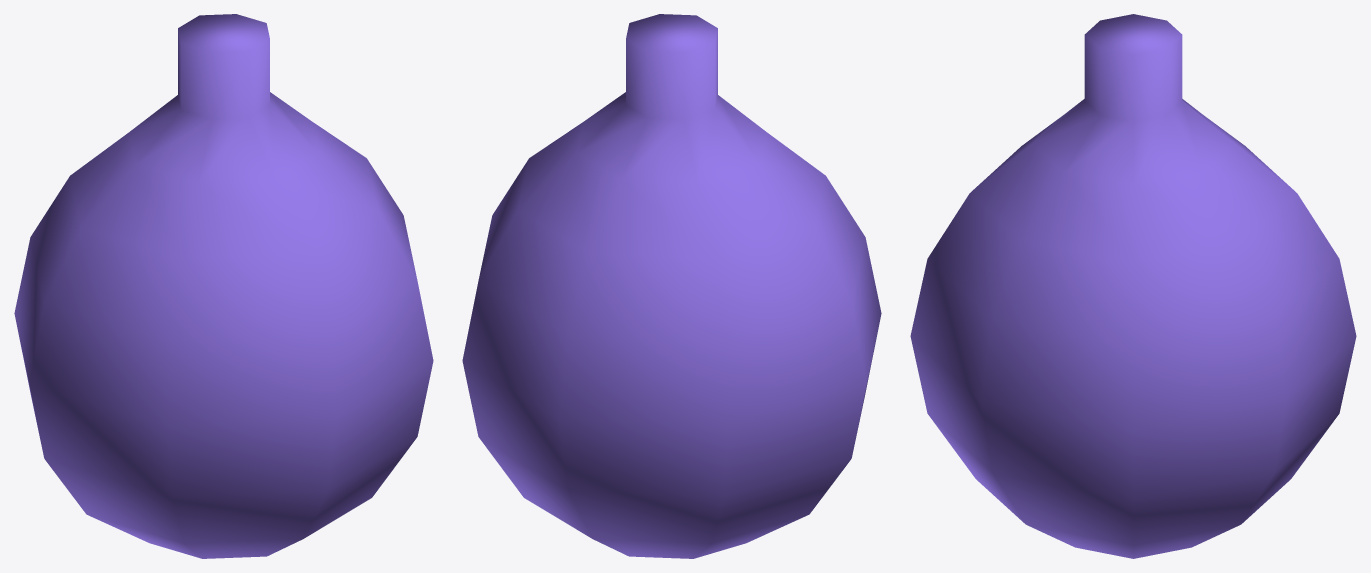
The model's file is bottle2_lowpoly_liquid.fbx.
3 renders of one model, left to right at view 1: azimuth 30°, elevation 25°; view 2: azimuth 150°, elevation 25°; view 3: azimuth 270°, elevation 25°, orthographic.
Parts seen in each view (by area): view 1: bottle2.lowpoly.liquid; view 2: bottle2.lowpoly.liquid; view 3: bottle2.lowpoly.liquid.
Part boxes in pixels (x1=…): bottle2.lowpoly.liquid: x1=14, y1=14, x2=433, y2=558; bottle2.lowpoly.liquid: x1=462, y1=14, x2=881, y2=558; bottle2.lowpoly.liquid: x1=910, y1=14, x2=1356, y2=558.
Bounding box in the file's own units: 7.79 × 9.71 × 7.79.
